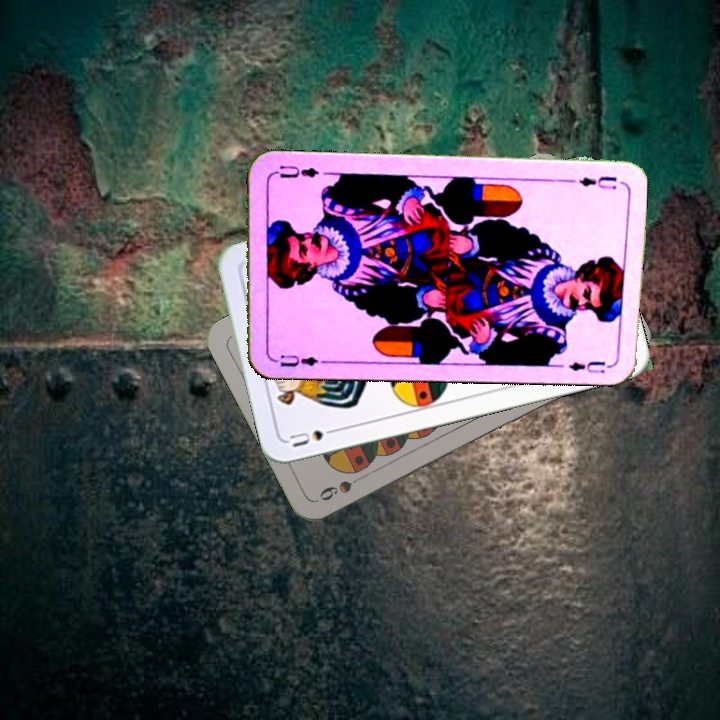EU: (268, 350, 327, 369), (575, 172, 619, 191)
S9: (315, 469, 369, 504)
SU: (285, 423, 343, 450)
